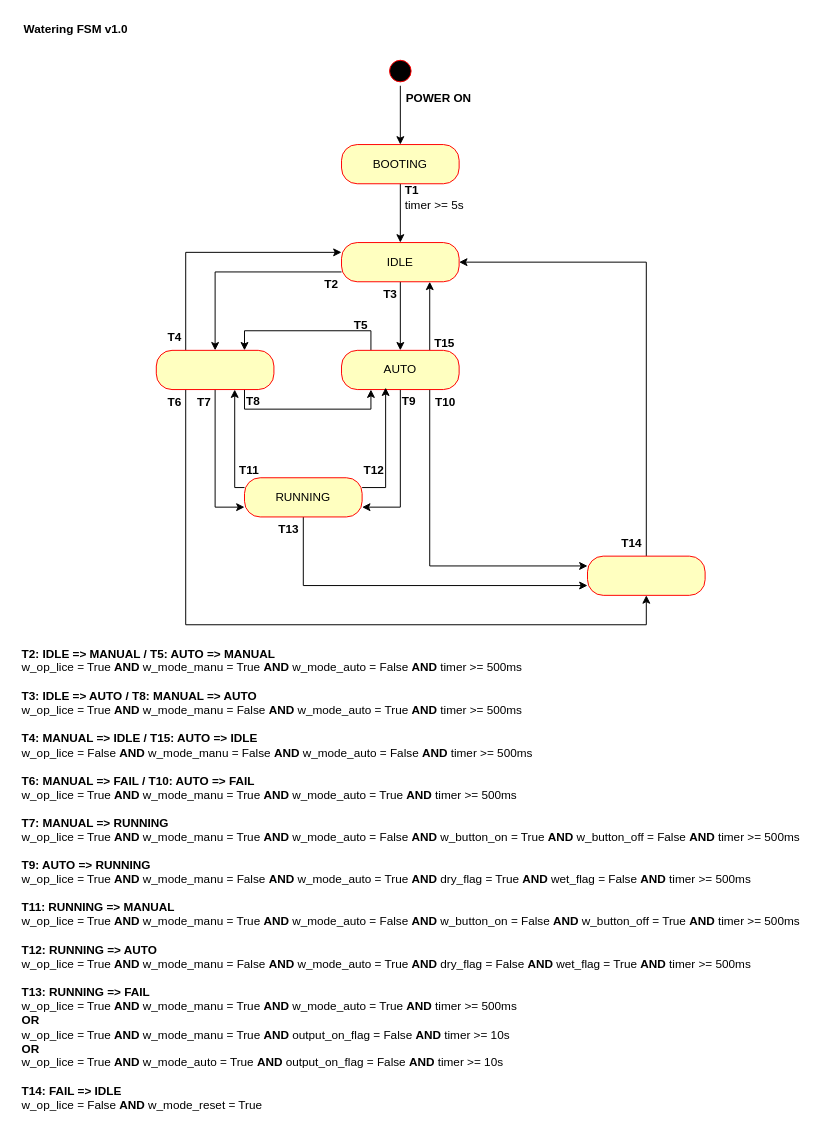
Some shapes in this 816 by 1141 pixel diagram are drawn without their labels. Here are the shapes that lost their labels. From the top down, the centre of each, then its label:
the point at 214,369: MANUAL
the point at 646,575: FAIL
